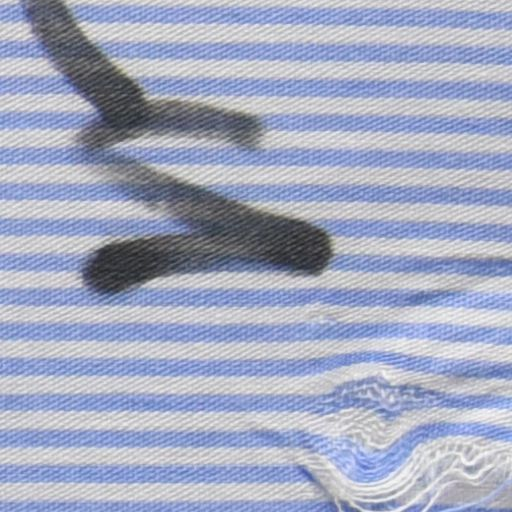defect: (19, 1, 323, 296), (267, 348, 512, 512)
